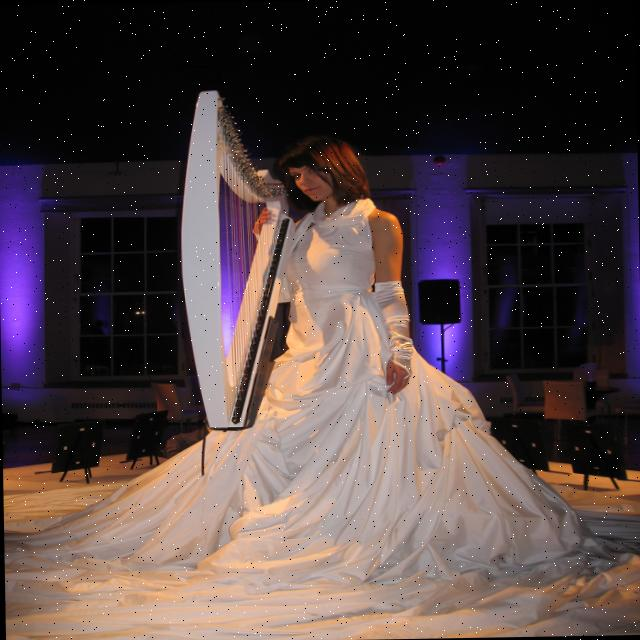harp: (171, 84, 302, 432)
